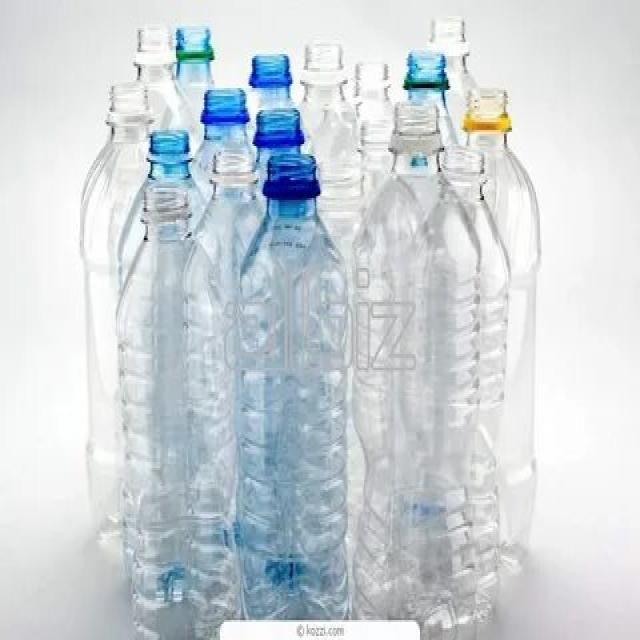blue: (238, 158, 346, 620)
